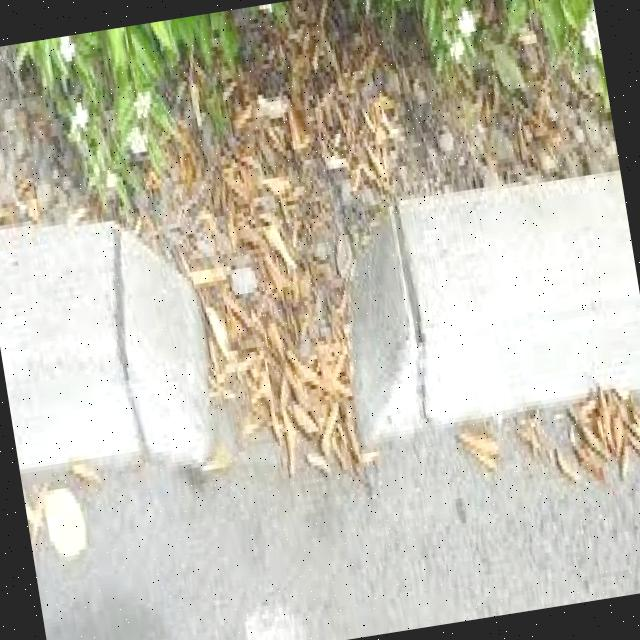curb: (1, 152, 640, 493)
